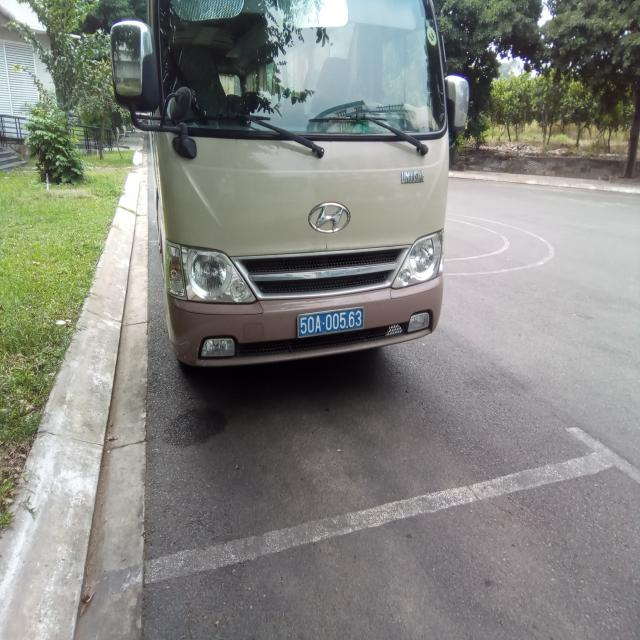bien_xanh: (294, 306, 364, 338)
